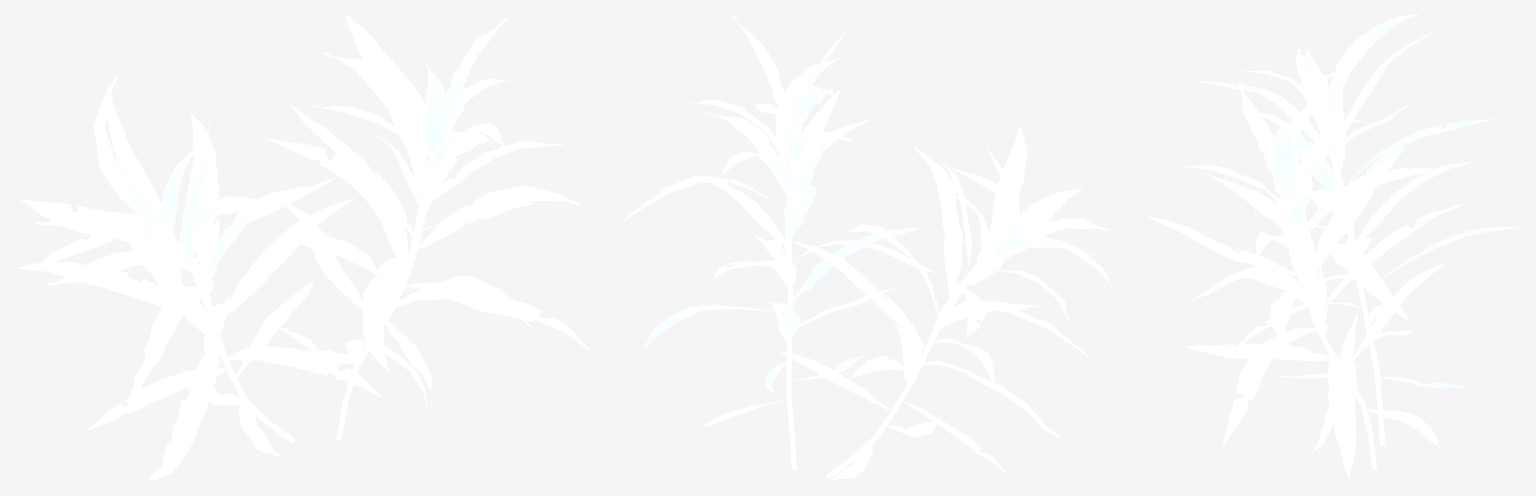
3 views of the same model, side by side, from view 1: azimuth 30°, elevation 25°; view 2: azimuth 150°, elevation 25°; view 3: azimuth 270°, elevation 25° (orthographic). The views are drawn at different scales.
Parts seen in each view (by area): view 1: SM_BM_Red_Bush_01_C_LOD0; view 2: SM_BM_Red_Bush_01_C_LOD0; view 3: SM_BM_Red_Bush_01_C_LOD0.
Part boxes in pixels (left/top/right/bottom): SM_BM_Red_Bush_01_C_LOD0: left=16, top=14, right=590, bottom=480; SM_BM_Red_Bush_01_C_LOD0: left=622, top=14, right=1115, bottom=481; SM_BM_Red_Bush_01_C_LOD0: left=1148, top=14, right=1518, bottom=479.
Bounding box in the file's own units: 0.5042 × 0.393 × 0.3357.
Materials: 1 (1 with a texture image).
